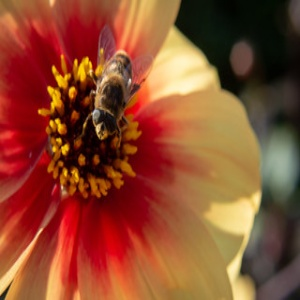bee: (92, 25, 154, 146)
